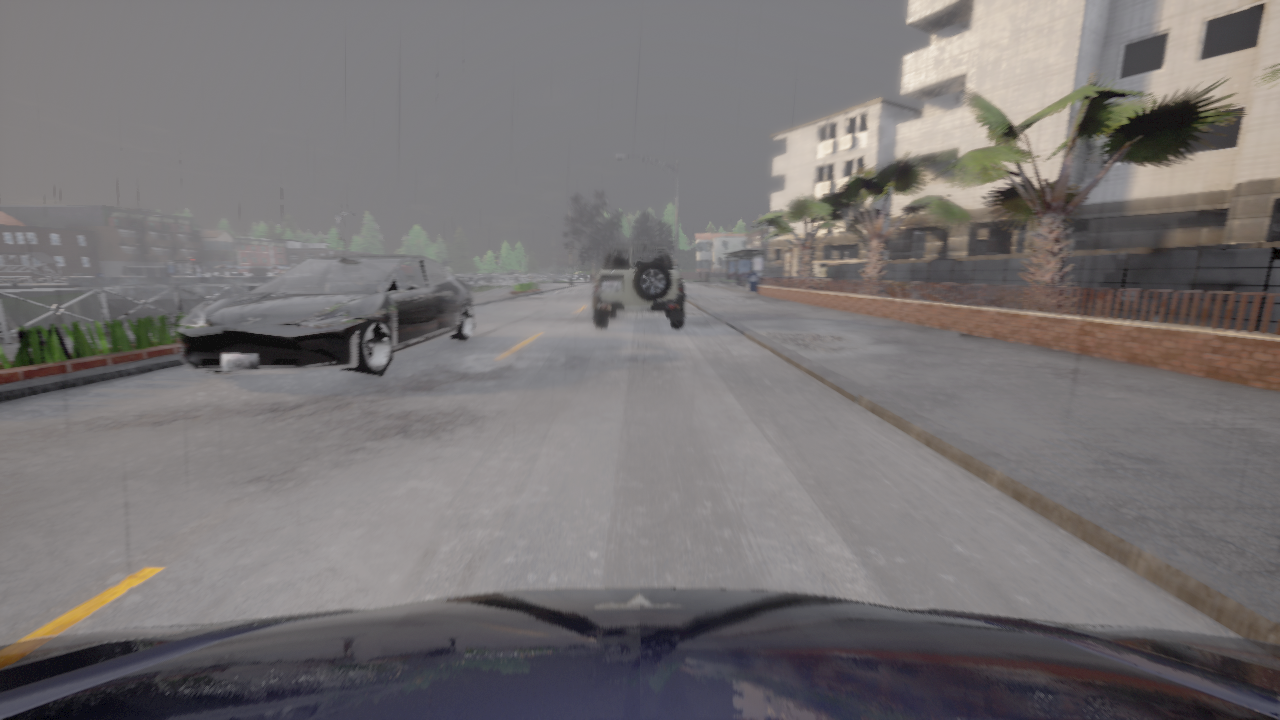cyclist: (0, 588, 1279, 719), (173, 255, 474, 377), (591, 242, 684, 328)
